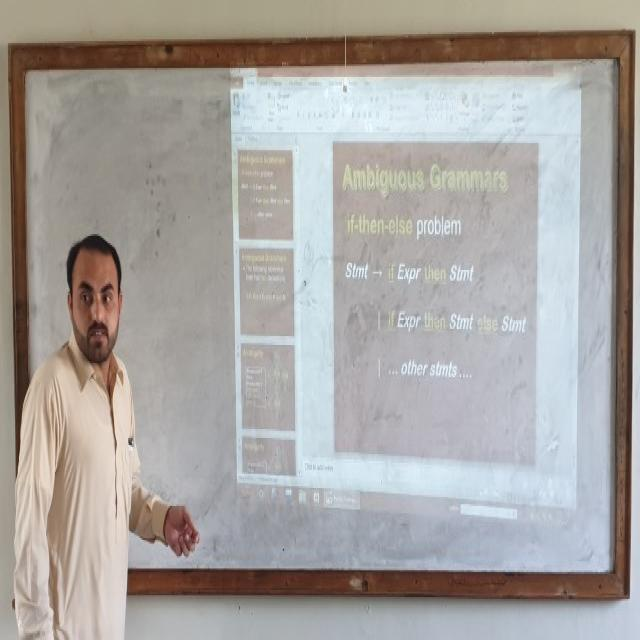Instructor: (12, 234, 142, 621)
Slide: (227, 41, 581, 523)
White-board: (18, 46, 629, 589)
